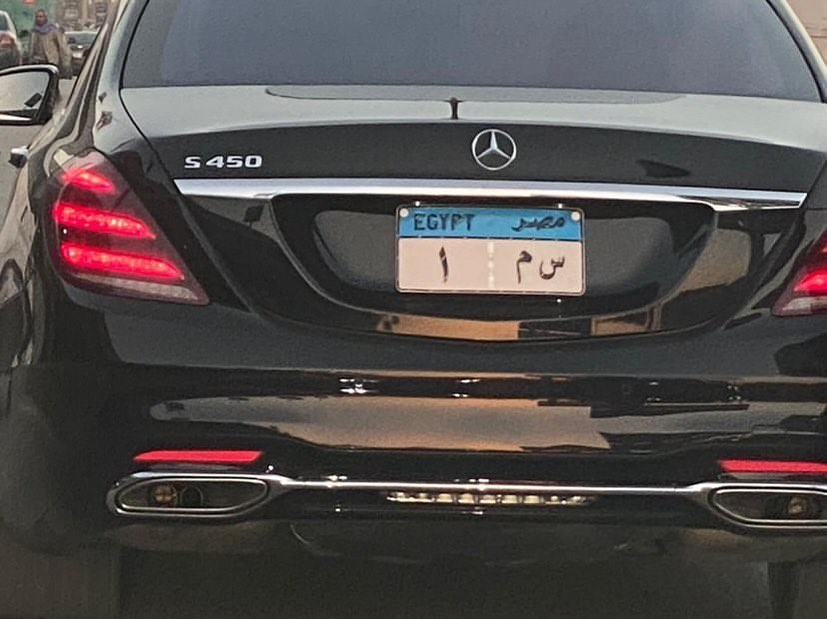carpl: (394, 222, 581, 290)
